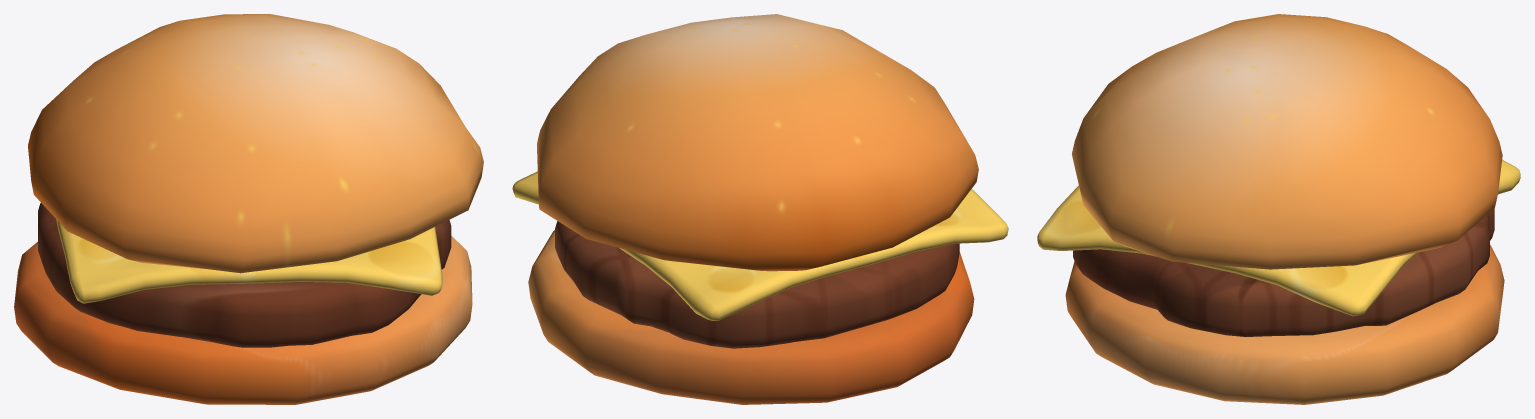
File: level_186.fbx
3 renders of one model, left to right at view 1: azimuth 30°, elevation 25°; view 2: azimuth 150°, elevation 25°; view 3: azimuth 270°, elevation 25°, orthographic.
Visible parts, largest first — view 1: Cube_L2, Cube_L1, Cube_L4, Cube_L3; view 2: Cube_L2, Cube_L1, Cube_L4, Cube_L3; view 3: Cube_L2, Cube_L1, Cube_L4, Cube_L3.
Part boxes in pixels (left/top/right/bottom): Cube_L2: left=28, top=14, right=483, bottom=273; Cube_L1: left=14, top=236, right=472, bottom=404; Cube_L4: left=38, top=203, right=451, bottom=347; Cube_L3: left=56, top=219, right=442, bottom=303; Cube_L2: left=537, top=14, right=978, bottom=271; Cube_L1: left=528, top=230, right=974, bottom=404; Cube_L4: left=555, top=221, right=959, bottom=348; Cube_L3: left=512, top=171, right=1008, bottom=320; Cube_L2: left=1072, top=14, right=1502, bottom=269; Cube_L1: left=1065, top=244, right=1504, bottom=404; Cube_L4: left=1073, top=209, right=1494, bottom=336; Cube_L3: left=1037, top=159, right=1520, bottom=316.
Bounding box in the file's own units: 11.18 × 7.07 × 11.23.
